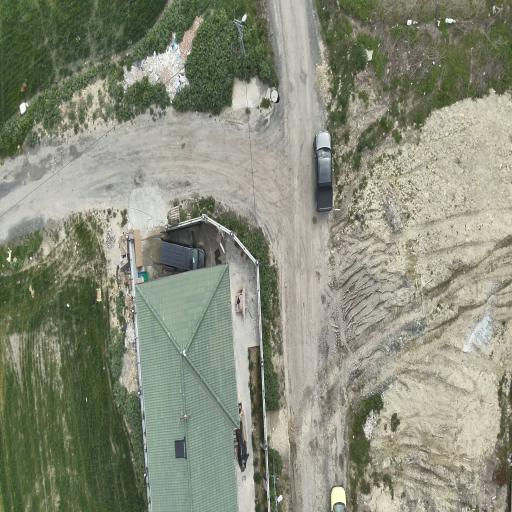car: (314, 131, 333, 211), (161, 241, 205, 271), (331, 486, 346, 511)
